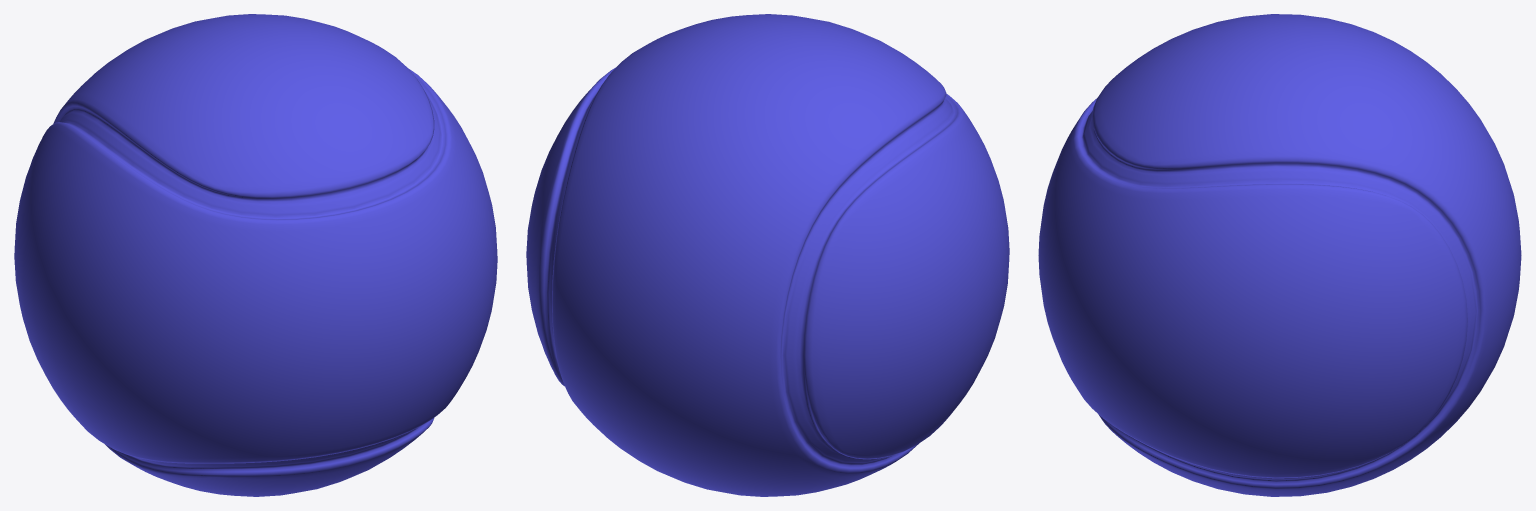
File: tenbal.obj
The picture shows the model from 3 angles, left to right: view 1: azimuth 30°, elevation 25°; view 2: azimuth 150°, elevation 25°; view 3: azimuth 270°, elevation 25°; orthographic projection.
Parts seen in each view (by area): view 1: Box001; view 2: Box001; view 3: Box001.
Boxes of the visible parts, x1,y1,x2,y2 form: Box001: (14, 14, 497, 496); Box001: (526, 14, 1009, 496); Box001: (1038, 14, 1521, 496).
Size of the model in its own units: 71.95 by 71.93 by 72.33.
